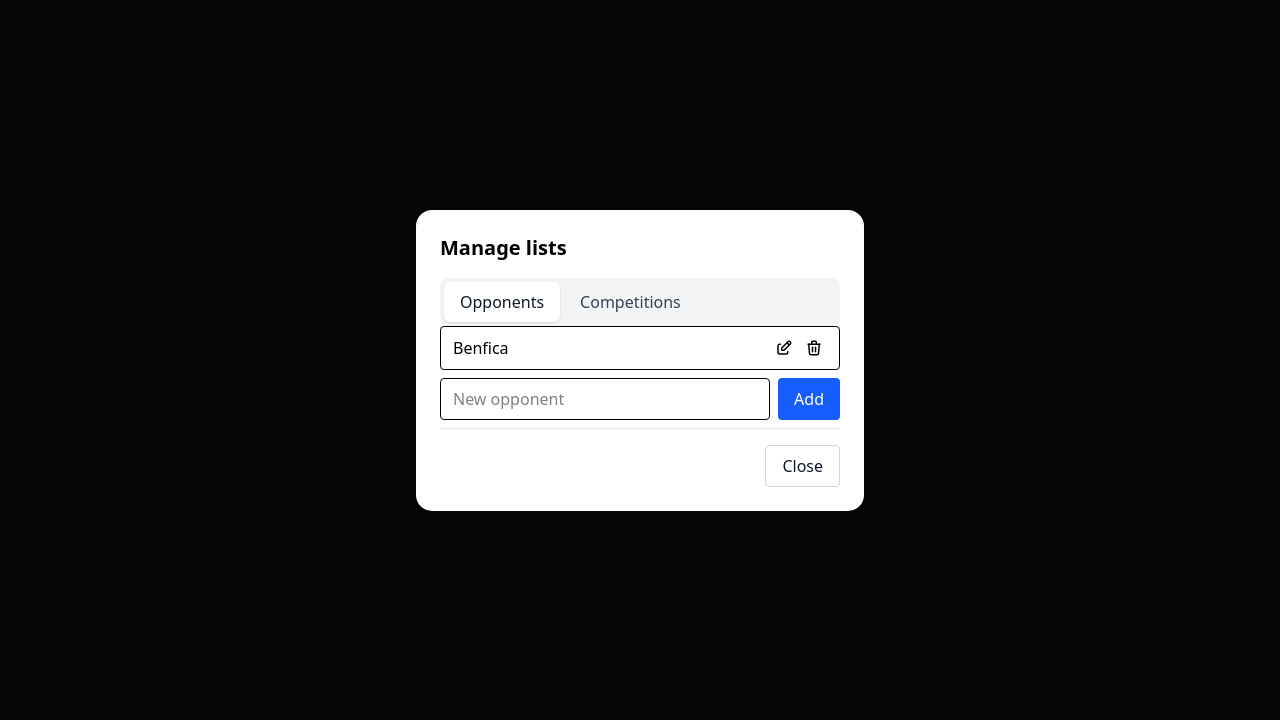
Test: selecting Competitions renders the competitions list and removes the opponents list from the document (AC GREF-01.3)
The image size is (1280, 720).
Expected: the text "Benfica" is shown, [453,336,509,360]
Click the tab "Competitions". click: click(630, 302)
box: [564,282,697,322]
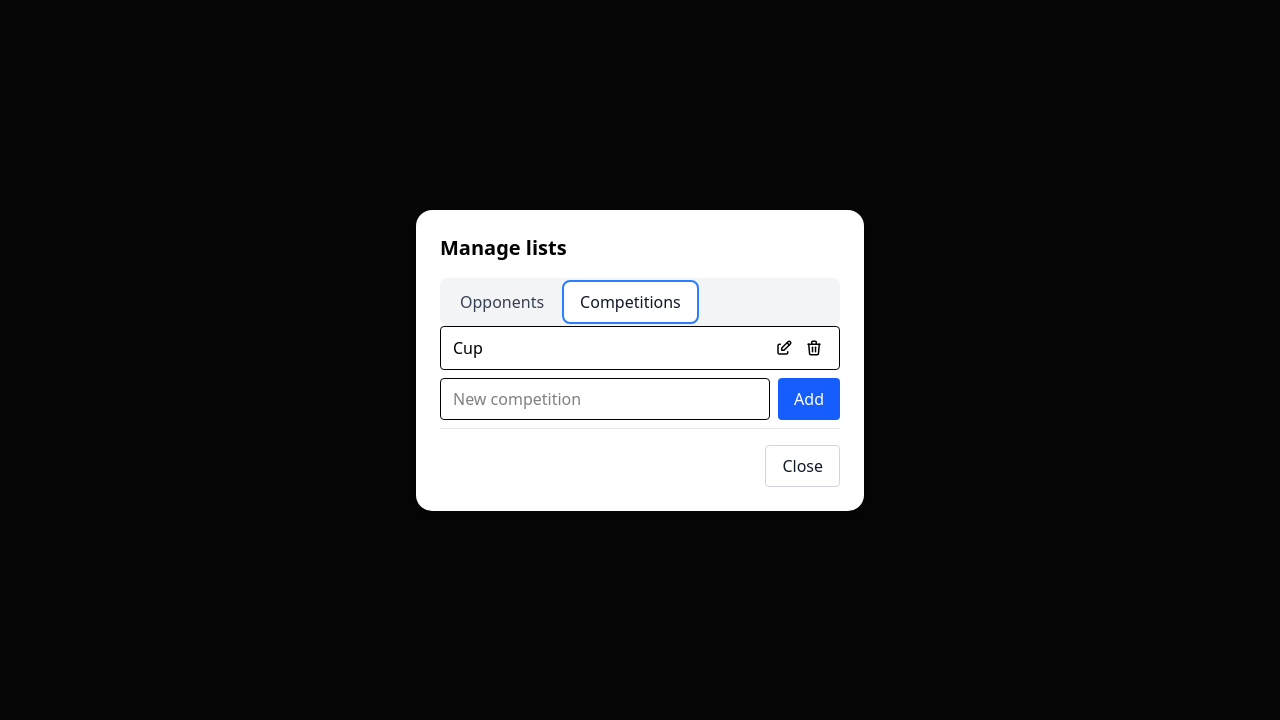
Now the text "Cup" is shown, box [453,336,483,360]
Now the text "Benfica" is gone
